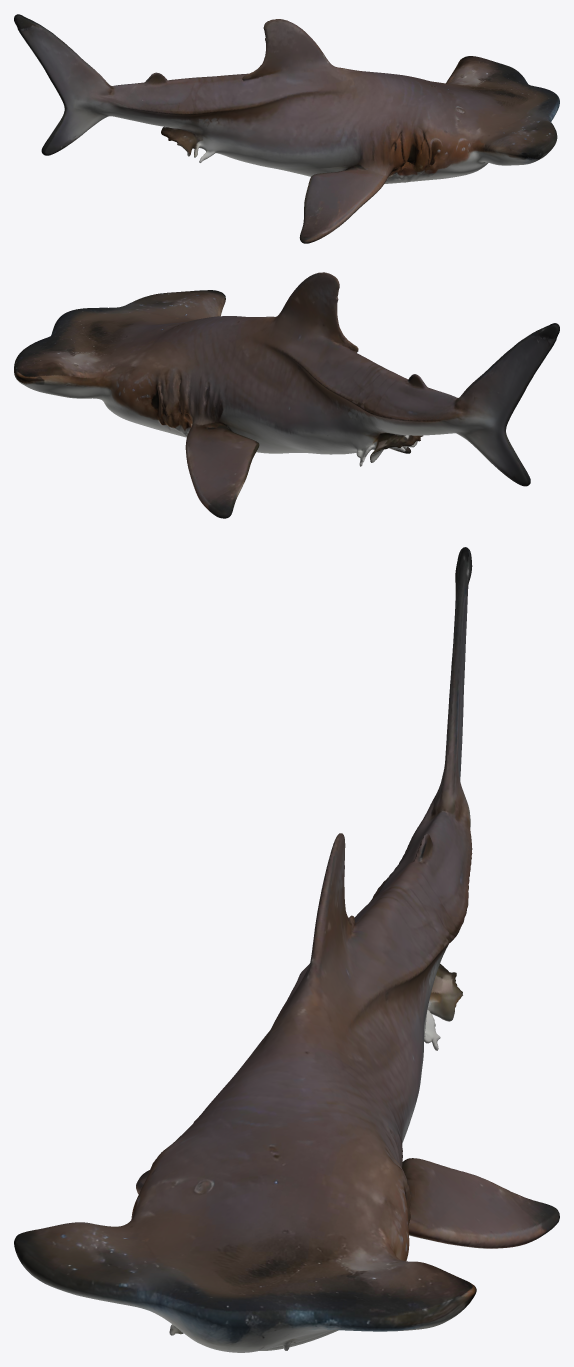
Rendered from hammer_f3.glb.
3 views of the same model, one above another, from view 1: azimuth 30°, elevation 25°; view 2: azimuth 150°, elevation 25°; view 3: azimuth 270°, elevation 25° (orthographic). The views are drawn at different scales.
Visible parts, largest first — view 1: tripo_node_3a8355b5-1d67-4c47-b0a8-972bd07b61d6; view 2: tripo_node_3a8355b5-1d67-4c47-b0a8-972bd07b61d6; view 3: tripo_node_3a8355b5-1d67-4c47-b0a8-972bd07b61d6.
Part boxes in pixels (<box>): tripo_node_3a8355b5-1d67-4c47-b0a8-972bd07b61d6: <box>14,14,559,243</box>; tripo_node_3a8355b5-1d67-4c47-b0a8-972bd07b61d6: <box>14,272,559,518</box>; tripo_node_3a8355b5-1d67-4c47-b0a8-972bd07b61d6: <box>14,547,559,1352</box>.
Bounding box in the file's own units: 1 × 0.4357 × 0.494.
Materials: 1 (1 with a texture image).
